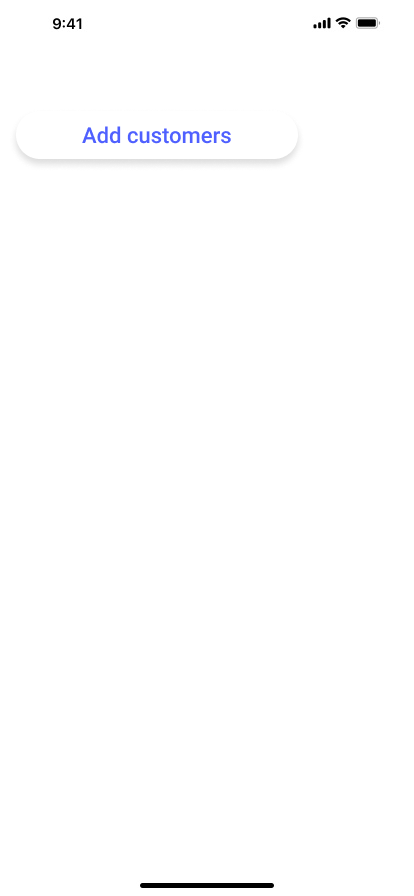Buttons: (8, 108, 306, 172)
Home Indicator: (0, 862, 414, 896)
Status Bar: (0, 0, 414, 44)
